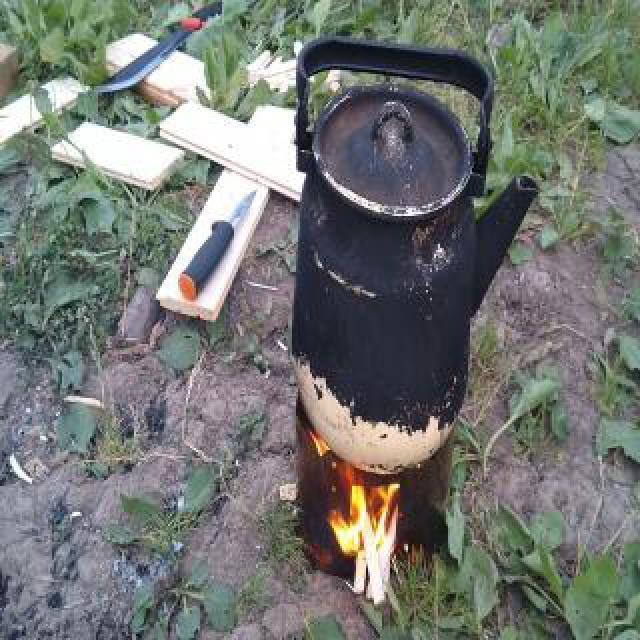Fire: (324, 436, 410, 590)
